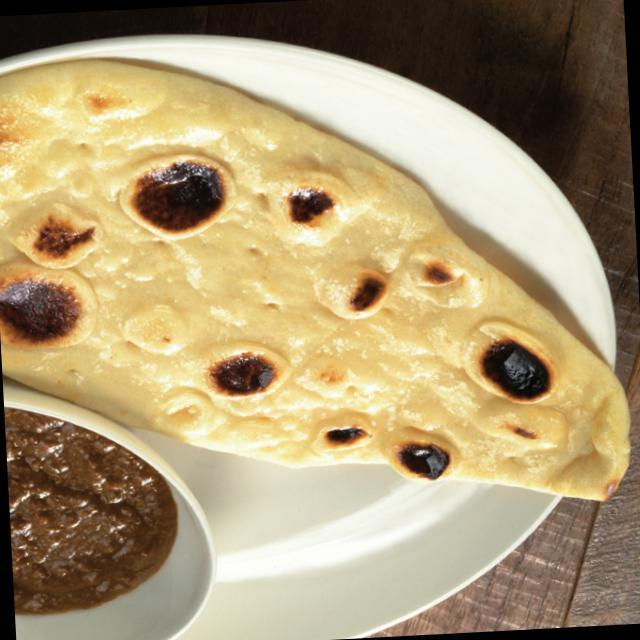Beef Curry: (4, 400, 169, 640)
